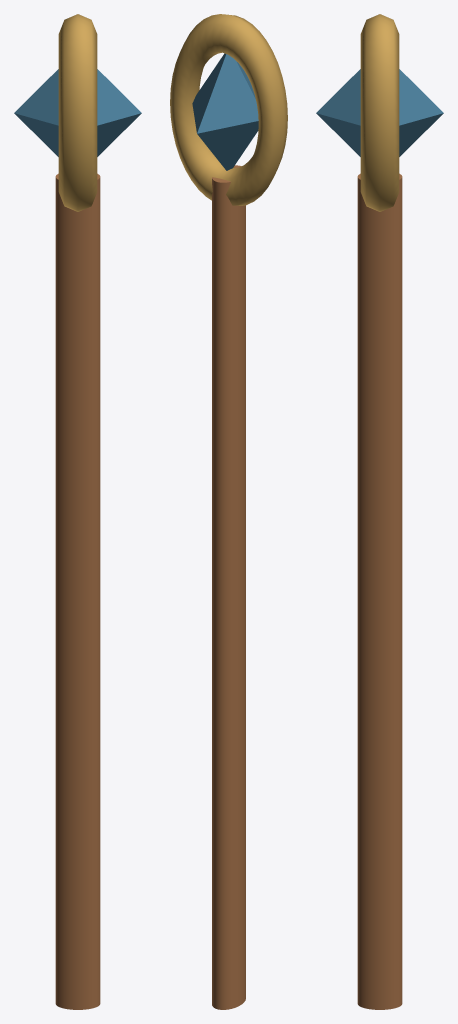
Rendered from wp-baton-de-mage.glb.
3 renders of one model, left to right at view 1: azimuth 90°, elevation 25°; view 2: azimuth 150°, elevation 25°; view 3: azimuth 270°, elevation 25°, orthographic.
Parts seen in each view (by area): view 1: wp-baton-de-mage; view 2: wp-baton-de-mage; view 3: wp-baton-de-mage.
Boxes of the visible parts, x1,y1,x2,y2 form: wp-baton-de-mage: [14, 14, 141, 1009]; wp-baton-de-mage: [170, 14, 287, 1009]; wp-baton-de-mage: [316, 14, 443, 1009].
Bounding box in the file's own units: 0.2 × 1.7 × 0.2.
